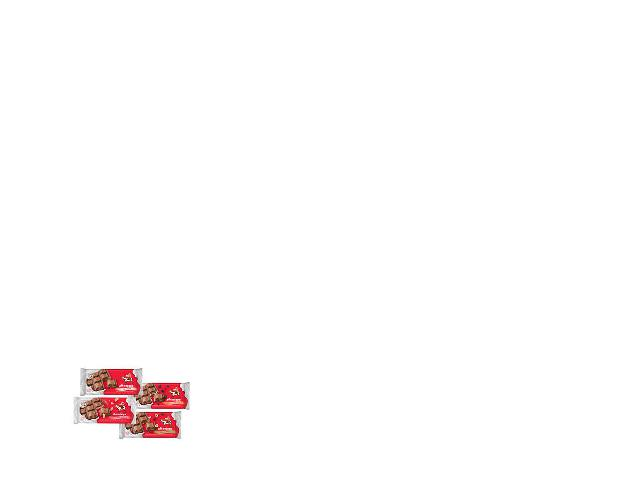chocolate: (115, 405, 186, 442)
